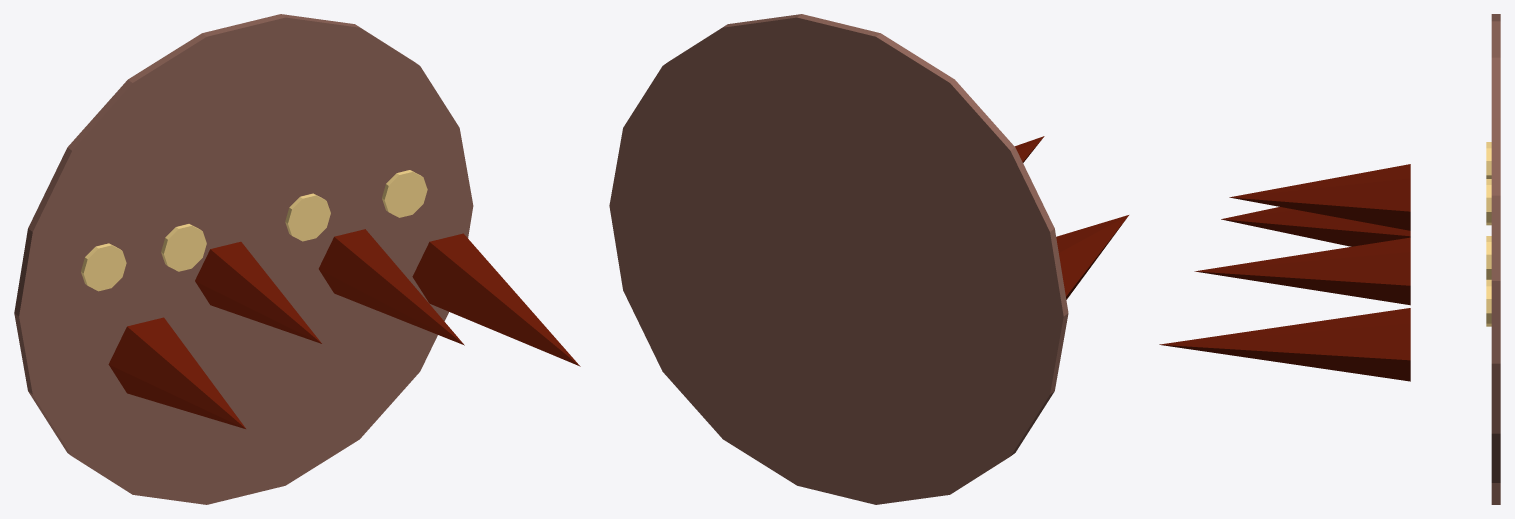
Rendered from 02_local_prop_cluster.glb.
3 renders of one model, left to right at view 1: azimuth 30°, elevation 25°; view 2: azimuth 150°, elevation 25°; view 3: azimuth 270°, elevation 25°, orthographic. The views are drawn at different scales.
Visible parts, largest first — view 1: scatter_base, basalt_shard_3, basalt_shard_0, basalt_shard_2, basalt_shard_1, lava_glow_0, lava_glow_3, lava_glow_2, lava_glow_1; view 2: scatter_base, basalt_shard_0; view 3: basalt_shard_3, basalt_shard_2, basalt_shard_1, scatter_base, basalt_shard_0.
Boxes of the visible parts, x1,y1,x2,y2 form: scatter_base: [14, 14, 473, 504]; basalt_shard_3: [412, 233, 580, 366]; basalt_shard_0: [108, 317, 245, 428]; basalt_shard_2: [318, 229, 464, 345]; basalt_shard_1: [195, 241, 321, 343]; lava_glow_0: [81, 243, 126, 291]; lava_glow_3: [382, 170, 427, 217]; lava_glow_2: [285, 193, 330, 241]; lava_glow_1: [161, 224, 206, 271]; scatter_base: [609, 14, 1068, 504]; basalt_shard_0: [1056, 215, 1128, 299]; basalt_shard_3: [1159, 308, 1410, 381]; basalt_shard_2: [1194, 237, 1410, 305]; basalt_shard_1: [1229, 164, 1410, 230]; scatter_base: [1491, 14, 1500, 504]; basalt_shard_0: [1221, 207, 1410, 246].
Bounding box in the file's own units: 1.9 × 1.87 × 1.32.
